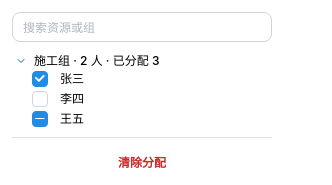
it: ResourceAssignmentList 三态 › 折叠组后成员不渲染，再展开回来
The image size is (332, 185).
Click the button with test id "assignment-group-toggle-g1" at (21, 61), box [12,52,30,70]
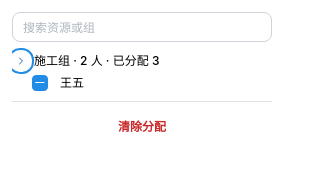
Expected: the checkbox with test id "assignment-resource-r-alice" is gone
Click the button with test id "assignment-group-toggle-g1" at (21, 61), box [12,52,30,70]
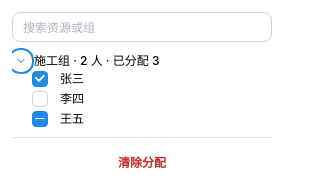
Expected: the checkbox with test id "assignment-resource-r-alice" is shown, [32,71,48,87]
